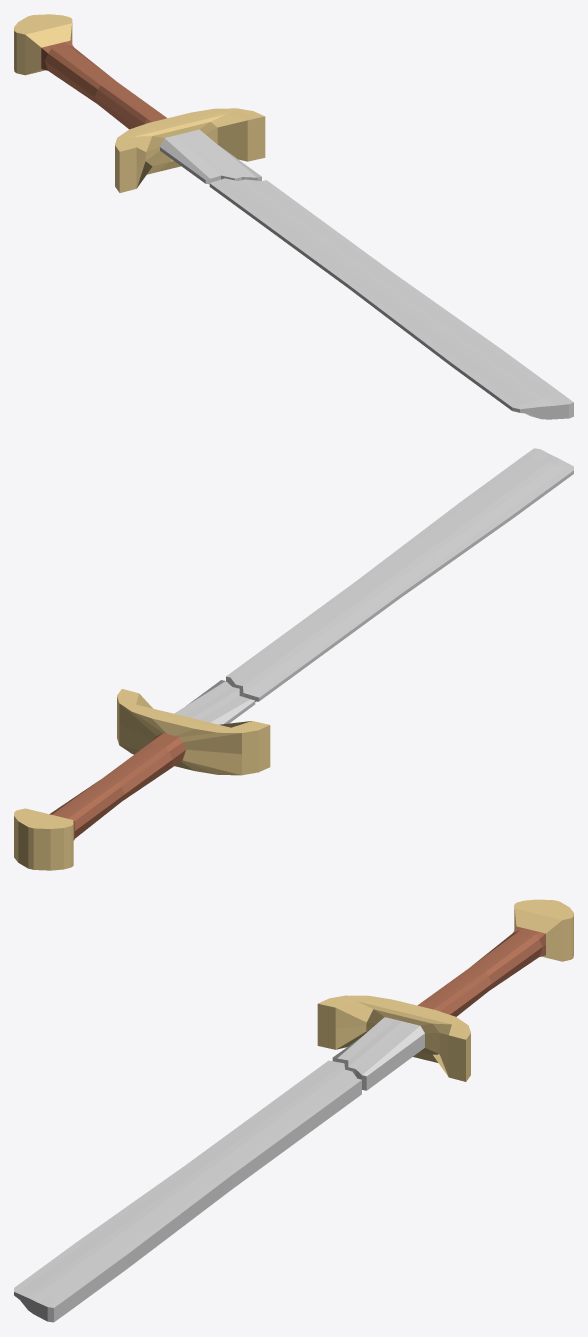
The model's file is Sword Broken 3.fbx.
3 views of the same model, one above another, from view 1: azimuth 30°, elevation 25°; view 2: azimuth 150°, elevation 25°; view 3: azimuth 330°, elevation 25° (orthographic). The views are drawn at different scales.
Parts seen in each view (by area): view 1: Sword.001, Sword.009; view 2: Sword.009, Sword.001; view 3: Sword.001, Sword.009.
Part boxes in pixels (x1,y1,x2,y2): Sword.001: (209,178,573,419); Sword.009: (14,14,265,192); Sword.009: (14,680,270,870); Sword.001: (226,448,573,701); Sword.001: (14,1060,361,1322); Sword.009: (317,899,573,1090).
Size of the model in its own units: 28.43 by 7.72 by 176.
